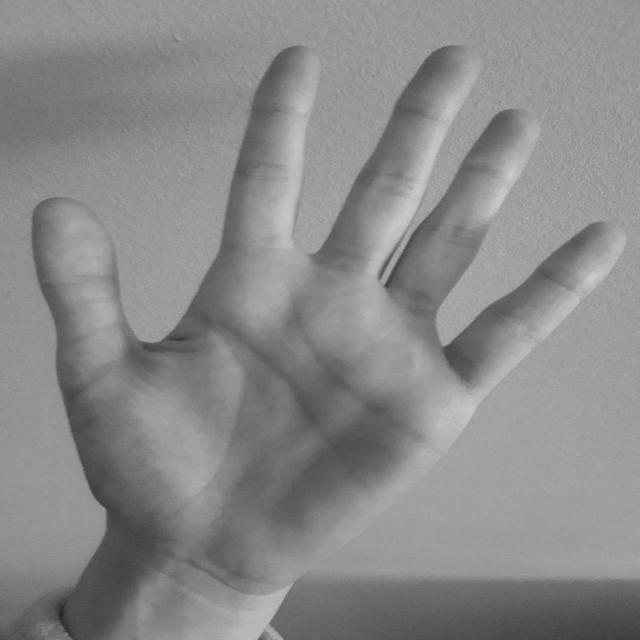stop: (23, 34, 635, 596)
